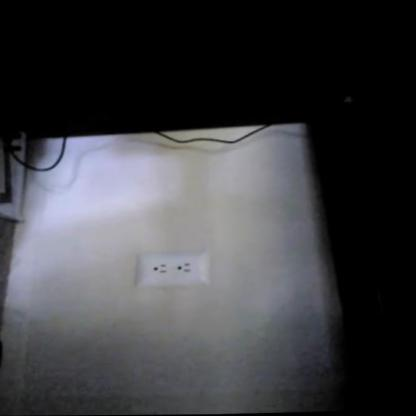OUTLET: (132, 250, 210, 286)
